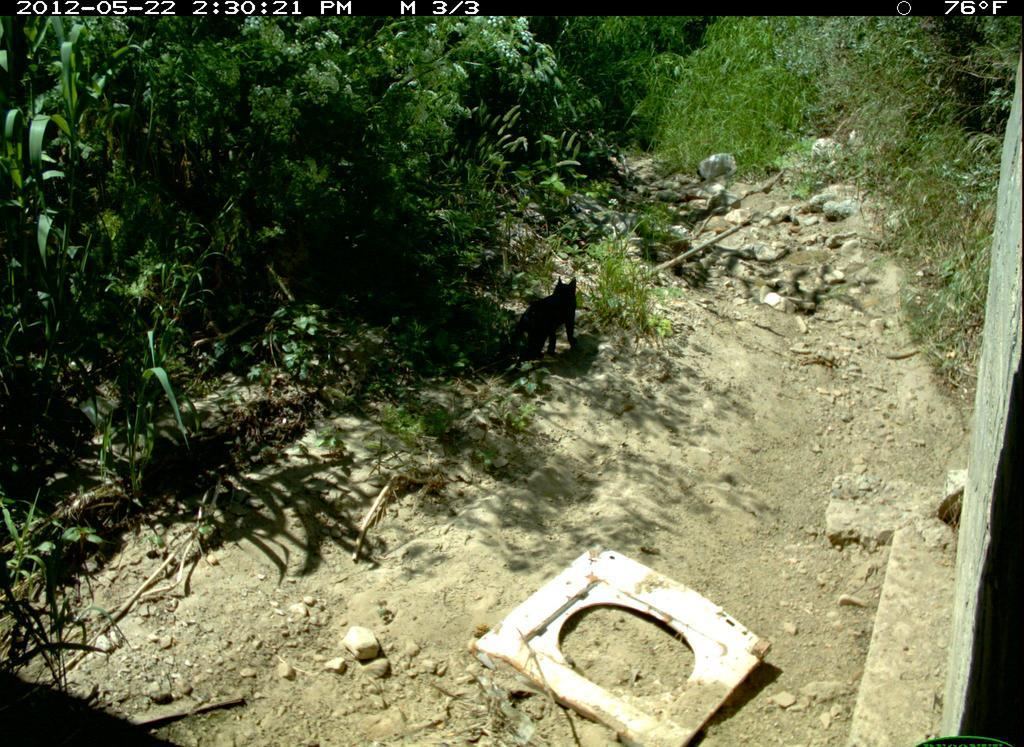cat: (506, 272, 592, 374)
